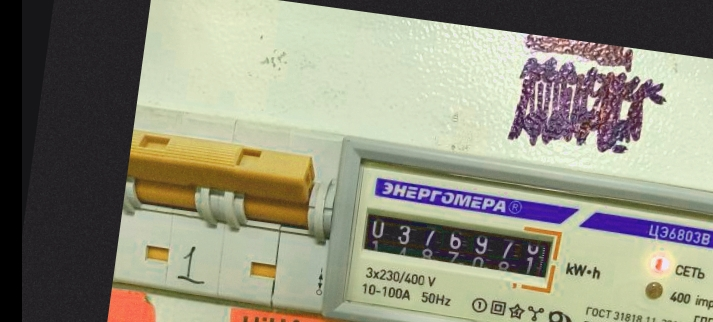0: (369, 214, 386, 238)
1: (522, 253, 536, 274)
3: (396, 222, 413, 245)
6: (447, 225, 465, 250)
7: (421, 222, 439, 248), (498, 235, 516, 260)
9: (473, 230, 490, 254)
screen: (351, 193, 568, 296)
